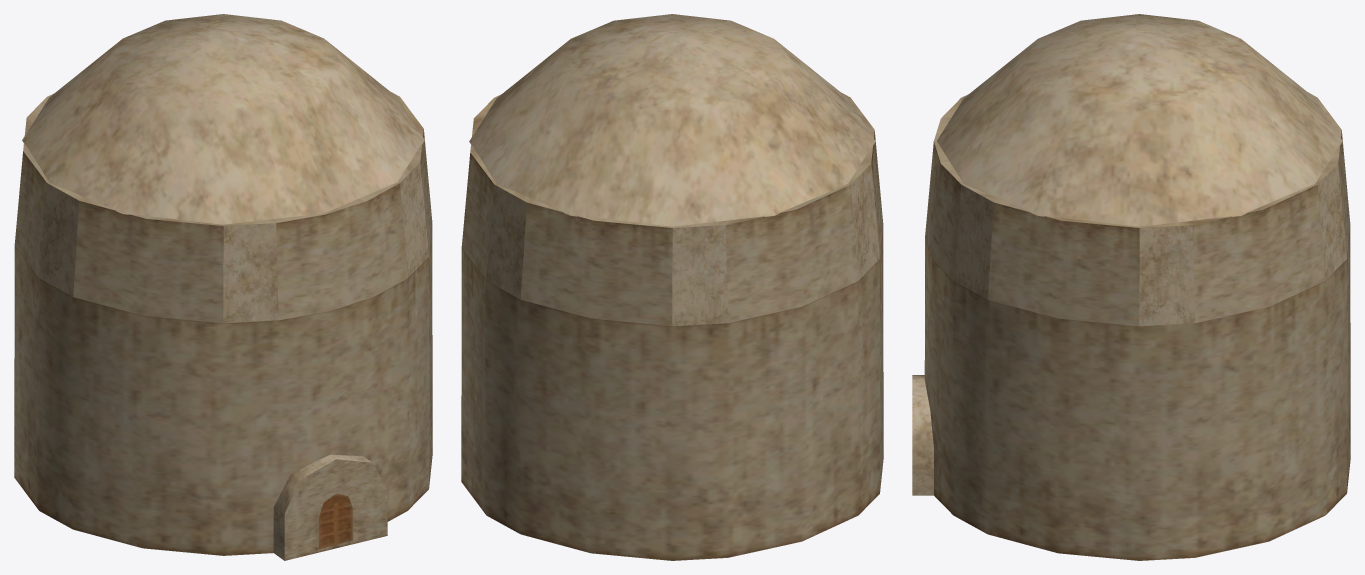
Rendered from thm_tato_imprv_building_s08_l2.fbx.
3 views of the same model, side by side, from view 1: azimuth 30°, elevation 25°; view 2: azimuth 150°, elevation 25°; view 3: azimuth 270°, elevation 25° (orthographic).
Visible parts, largest first — view 1: mesh_node; view 2: mesh_node; view 3: mesh_node.
Part boxes in pixels (bbox=[...]): mesh_node: bbox=[14, 14, 432, 560]; mesh_node: bbox=[461, 14, 883, 560]; mesh_node: bbox=[912, 14, 1350, 560].
Bounding box in the file's own units: 23.13 × 25.85 × 23.61.
Materials: 1 (1 with a texture image).
